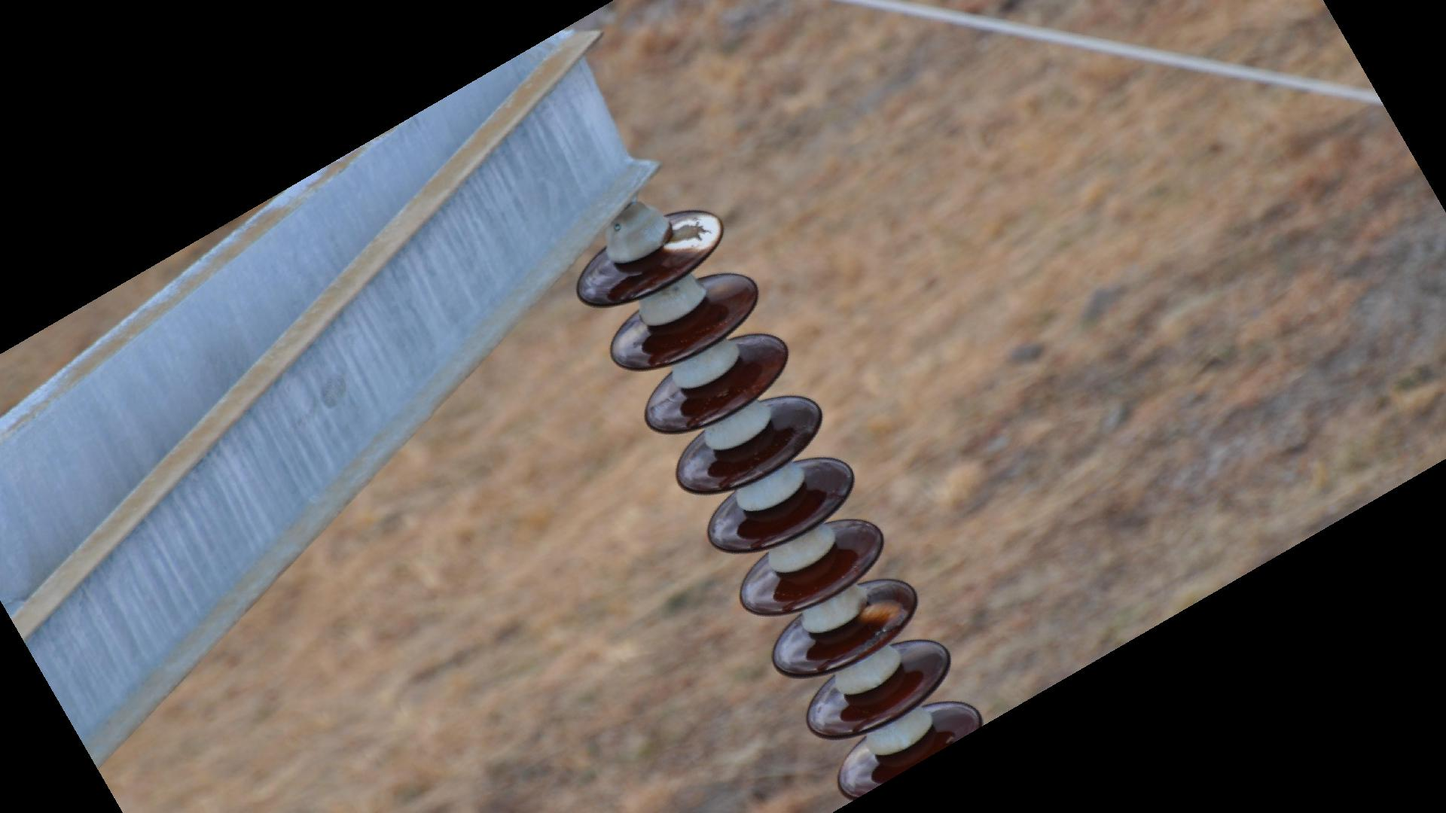insulator: (569, 204, 990, 803)
insulator_flashover: (660, 209, 725, 259), (859, 596, 909, 629)
